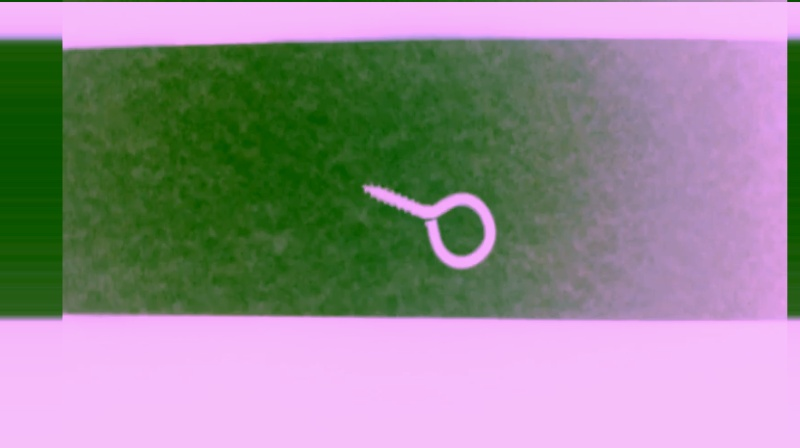O001: (358, 177, 500, 272)
